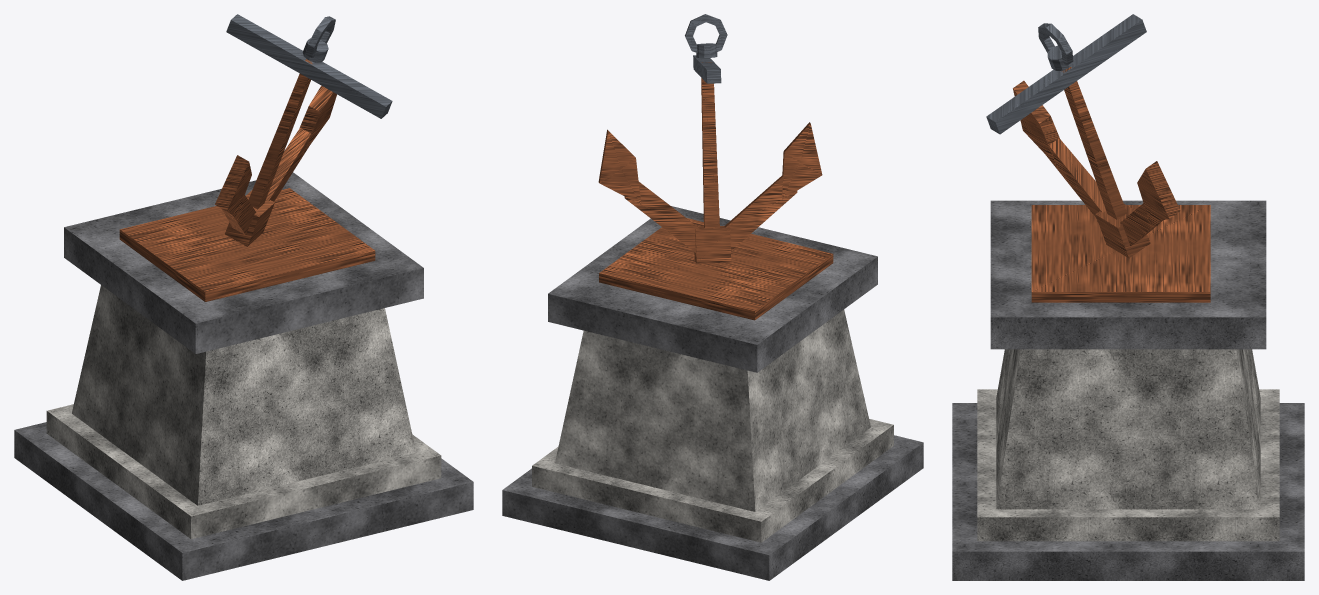
Rendered from anchor_monument.fbx.
The picture shows the model from 3 angles, left to right: view 1: azimuth 30°, elevation 25°; view 2: azimuth 150°, elevation 25°; view 3: azimuth 270°, elevation 25°; orthographic projection. The views are drawn at different scales.
Visible parts, largest first — view 1: anchor_monument; view 2: anchor_monument; view 3: anchor_monument.
Boxes of the visible parts, bbox=[...] form: anchor_monument: bbox=[14, 14, 473, 580]; anchor_monument: bbox=[502, 14, 923, 580]; anchor_monument: bbox=[952, 14, 1304, 580].
Size of the model in its own units: 240 by 380 by 240.
